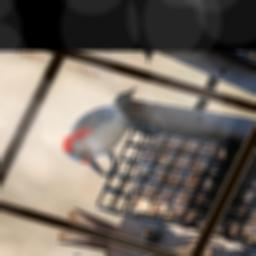Woodpecker: (54, 74, 163, 181)
